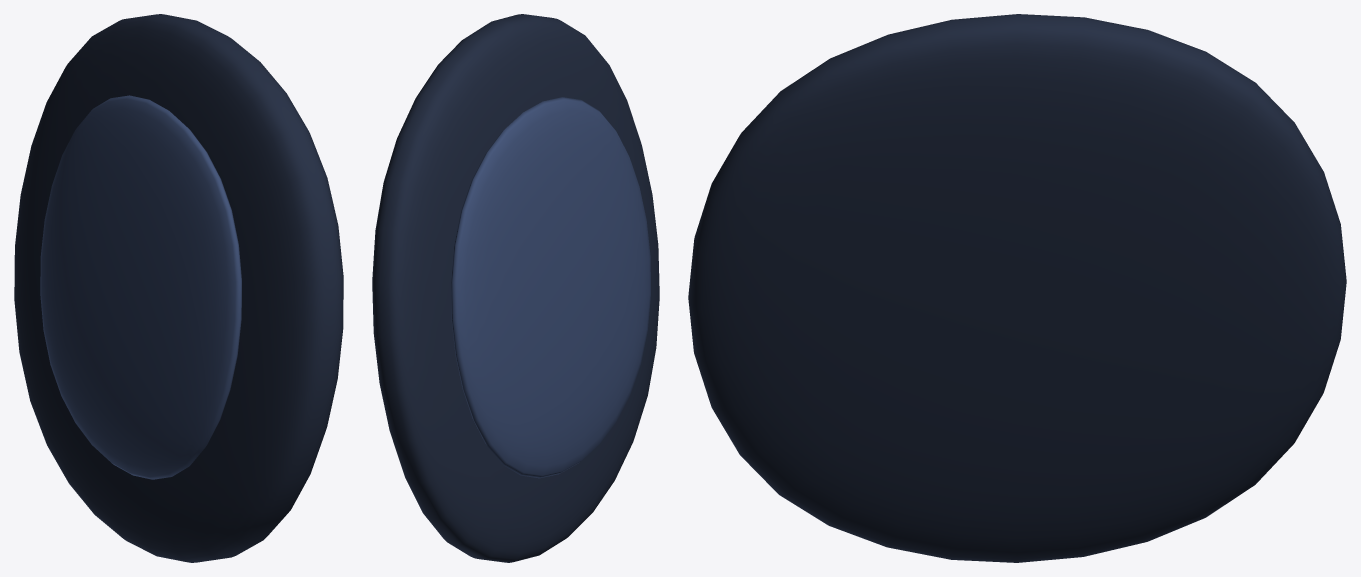
File: rocket_window1.fbx
The picture shows the model from 3 angles, left to right: view 1: azimuth 30°, elevation 25°; view 2: azimuth 150°, elevation 25°; view 3: azimuth 270°, elevation 25°; orthographic projection. The views are drawn at different scales.
Parts seen in each view (by area): view 1: Window Outline 2; view 2: Window Outline 2; view 3: Window Outline 2.
Part boxes in pixels (x1,y1,x2,y2): Window Outline 2: [14, 14, 343, 562]; Window Outline 2: [372, 14, 659, 562]; Window Outline 2: [688, 14, 1346, 562].
Bounding box in the file's own units: 17.87 × 62.65 × 63.58.
